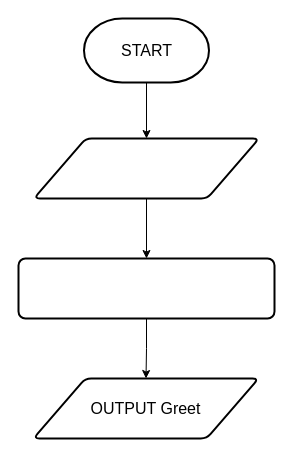
Some shapes in this 292 by 456 pixel diagram are drawn without their labels. Each missing label, with the box of its shape:
Greet <- "hello" + "" + Name + "!": (17, 257, 275, 319)
INPUT Name: (32, 137, 260, 199)
